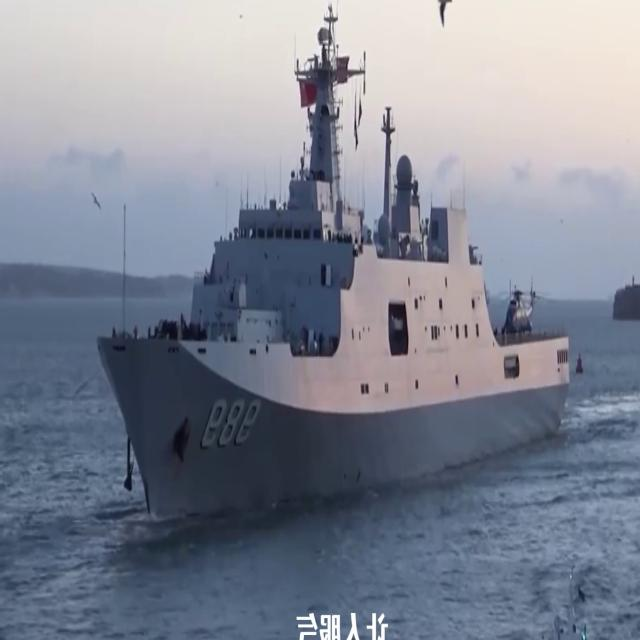navalvessels: (101, 22, 576, 511)
